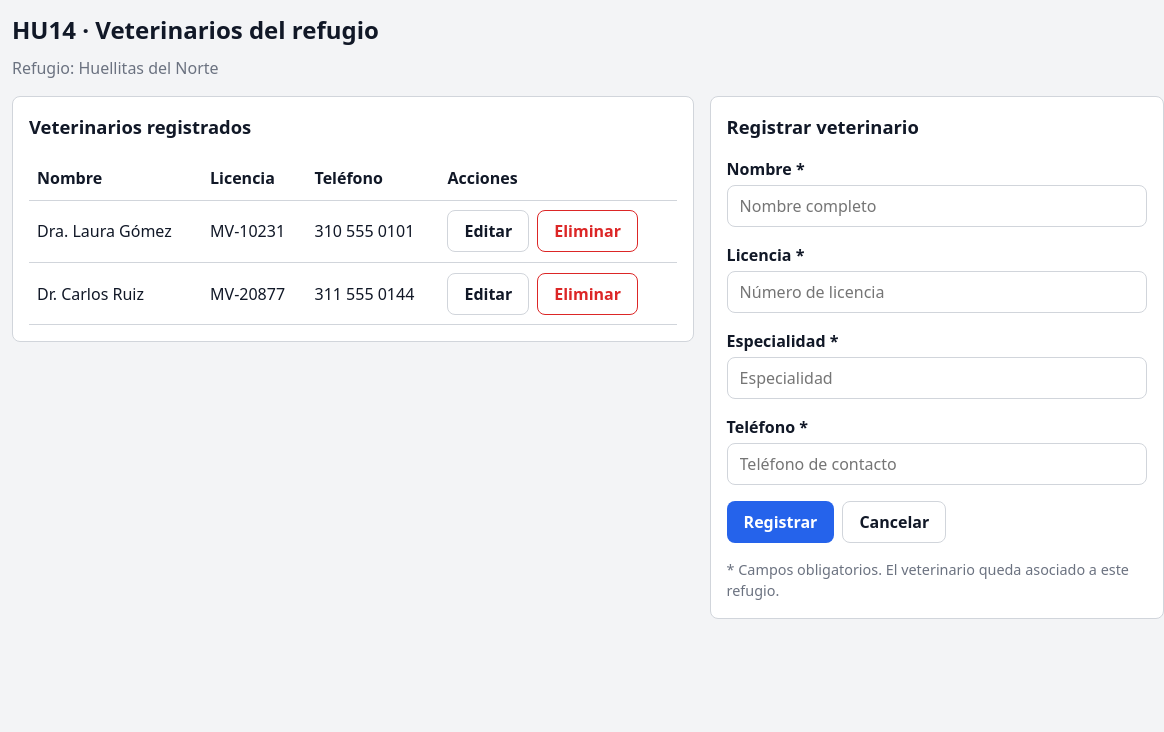
Test: VeterinariansPage › asks for confirmation and then deletes the veterinarian
Check: the text "Refugio: Huellitas del Norte" is shown, box [12, 57, 219, 79]
Click the button with aria-label "Eliminar a Dr. Carlos Ruiz" at (588, 294), box [537, 273, 638, 315]
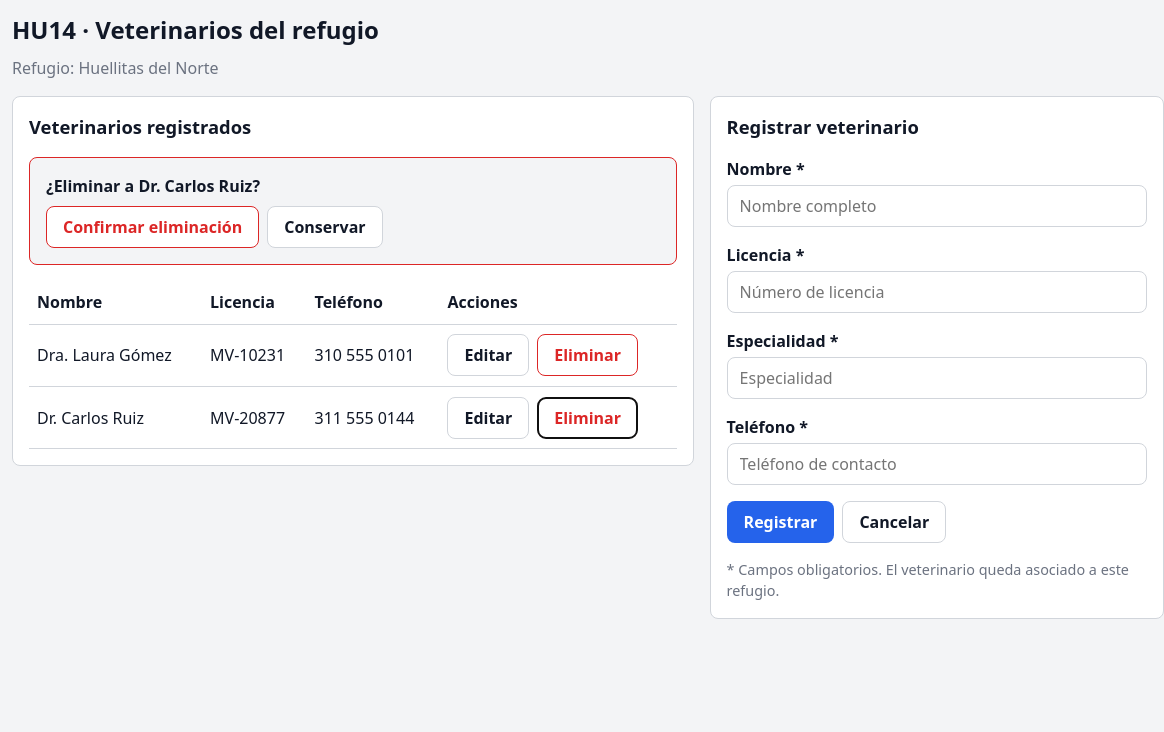
Check: the text "¿Eliminar a Dr. Carlos Ruiz?" is shown, box [46, 175, 260, 197]
Click the button "Confirmar eliminación" at (153, 227), box [46, 206, 259, 248]
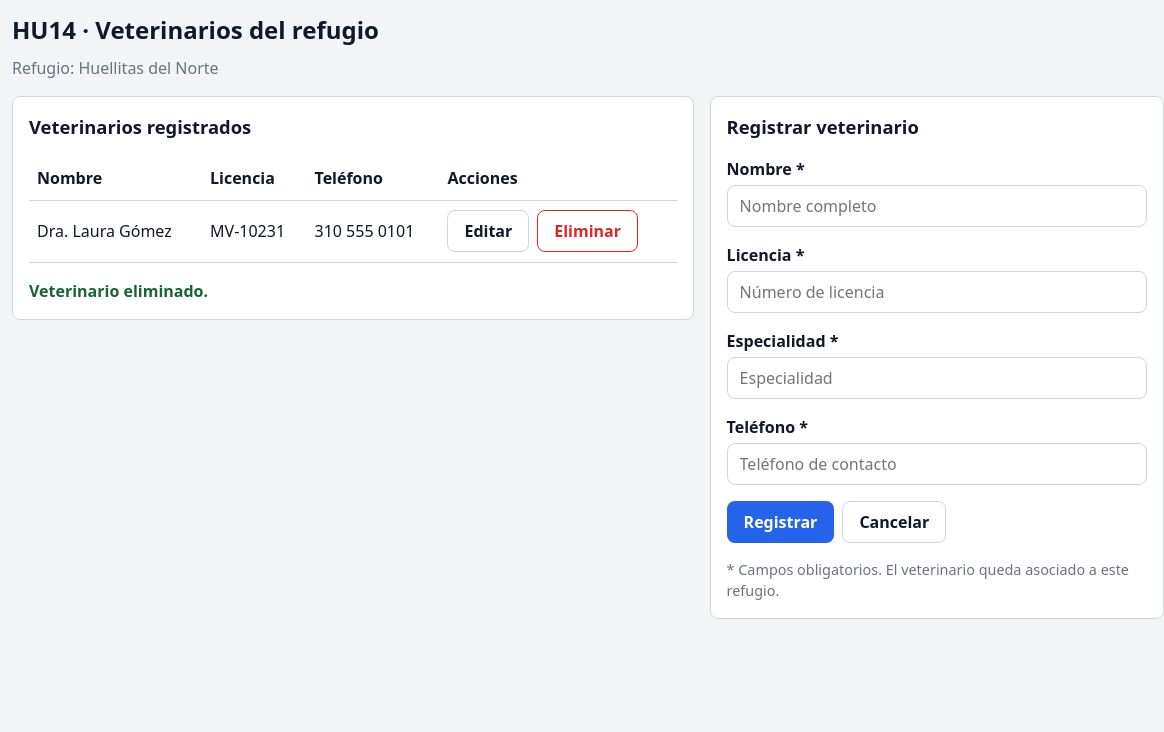
Check: the text "Veterinario eliminado." is shown, box [29, 280, 208, 302]
Check: the text "Dr. Carlos Ruiz" is gone
